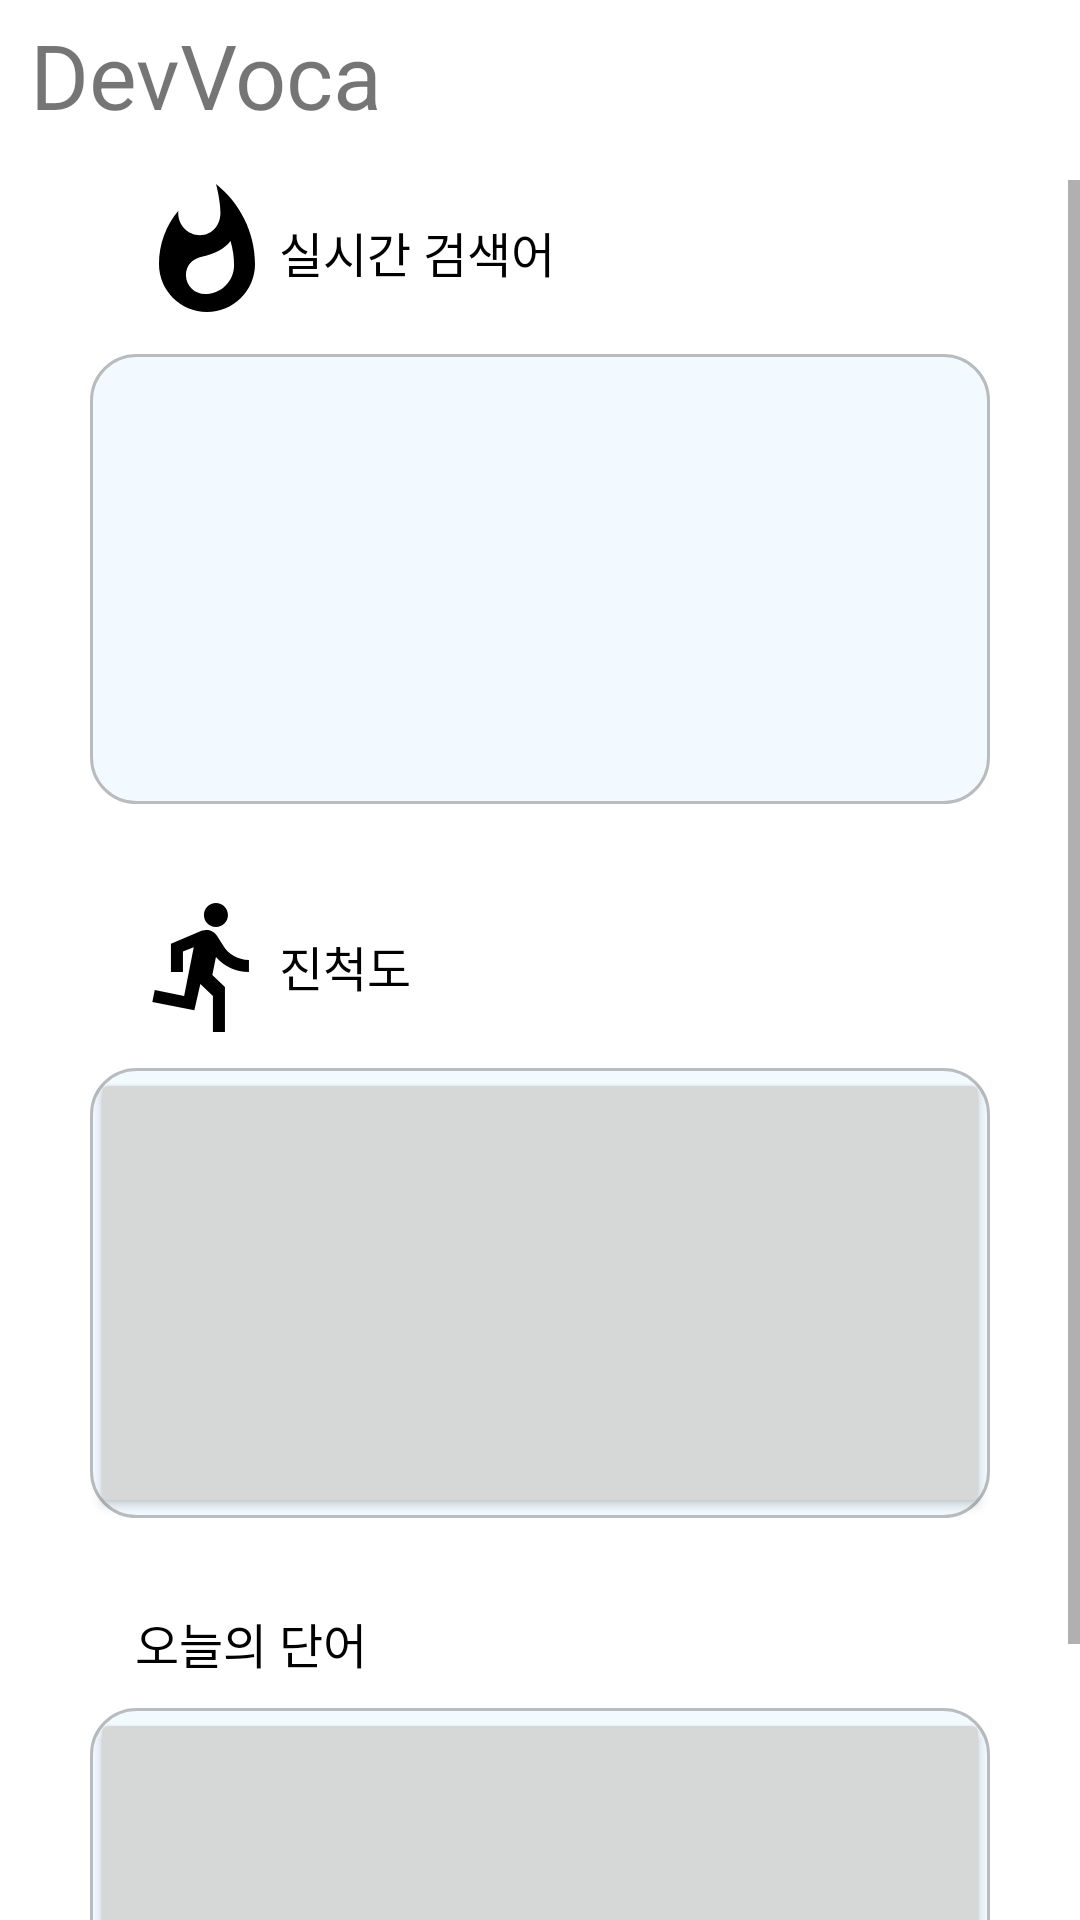

Screen size 1080×1920. Icon name, then its center in pixels as [x,y]:
directions run: [200,967]
whatshot: [207,248]
